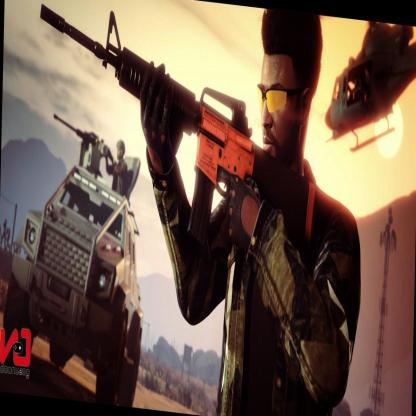rifle: (34, 0, 317, 275)
